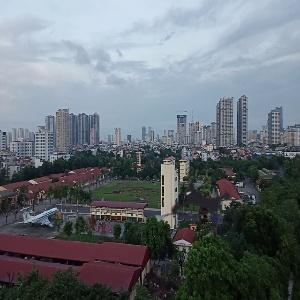drone: (136, 142, 266, 272)
